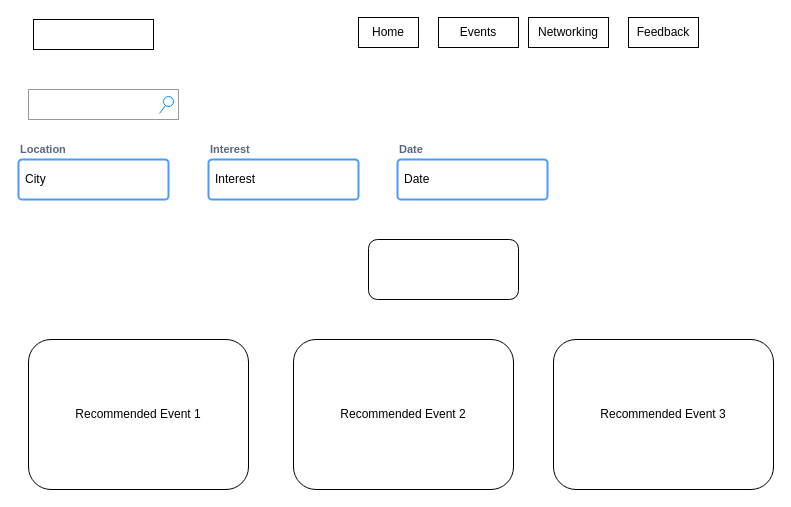
This 791x507 diagram has some shape labels left out. The shapes that lost their labels are listed below. From the top down, each one's box as (x1, y1, x2, y2) in pixels, then its label:
(32, 18, 154, 50): Event Discovery
(28, 88, 178, 120): Search
(368, 238, 518, 300): Recommended Events
